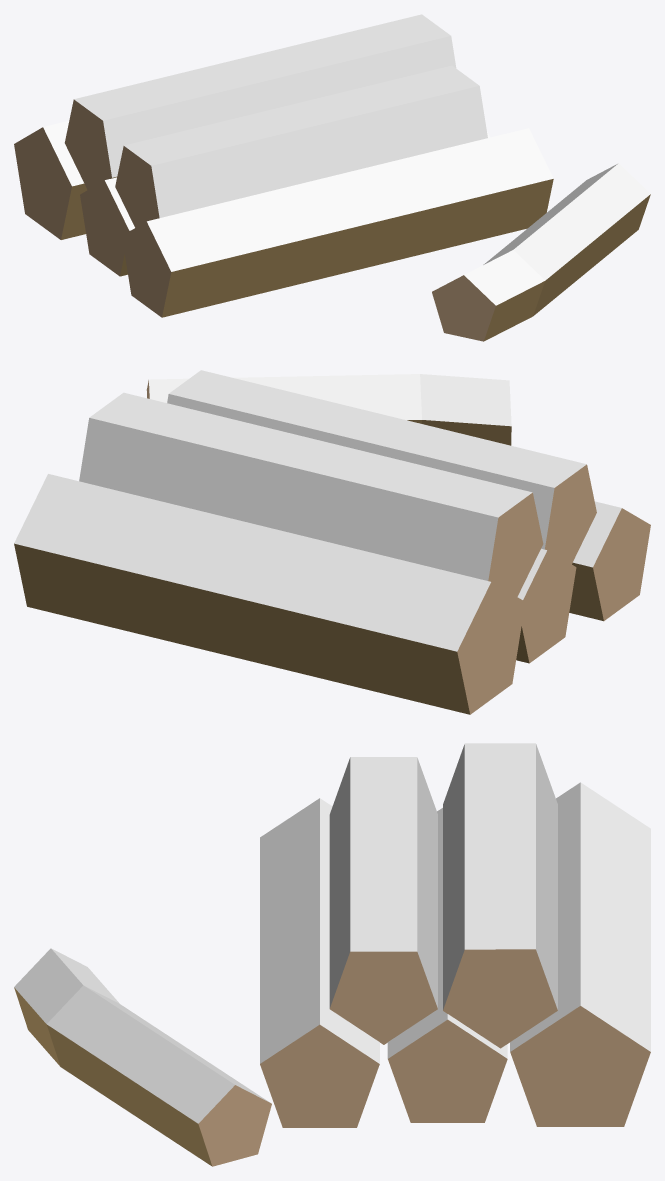
Rendered from Oak_Firewood_Pile_Snow_02.fbx.
3 views of the same model, one above another, from view 1: azimuth 30°, elevation 25°; view 2: azimuth 150°, elevation 25°; view 3: azimuth 270°, elevation 25° (orthographic). The views are drawn at different scales.
Parts seen in each view (by area): view 1: Oak_Firewood_Pile_Snow_02; view 2: Oak_Firewood_Pile_Snow_02; view 3: Oak_Firewood_Pile_Snow_02.
Part boxes in pixels (bbox=[...]): Oak_Firewood_Pile_Snow_02: bbox=[14, 14, 650, 341]; Oak_Firewood_Pile_Snow_02: bbox=[14, 370, 650, 714]; Oak_Firewood_Pile_Snow_02: bbox=[14, 743, 650, 1166].
Bounding box in the file's own units: 70.06 × 20.37 × 70.08.
